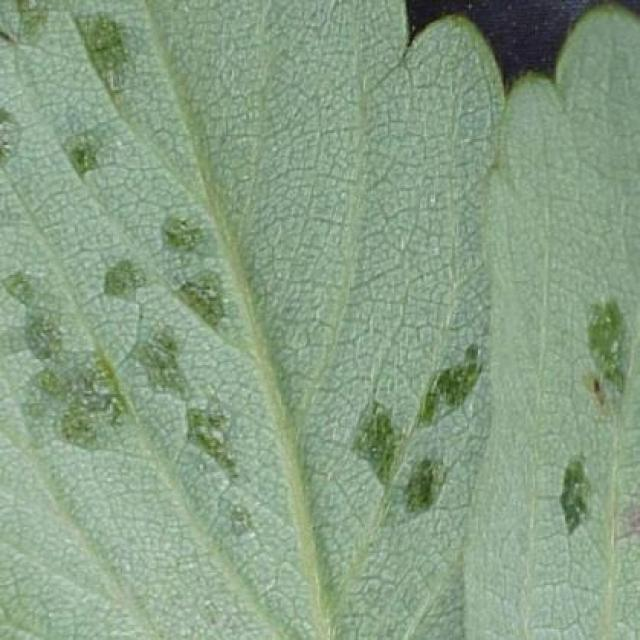Angular Leafspot: (459, 0, 638, 638)
